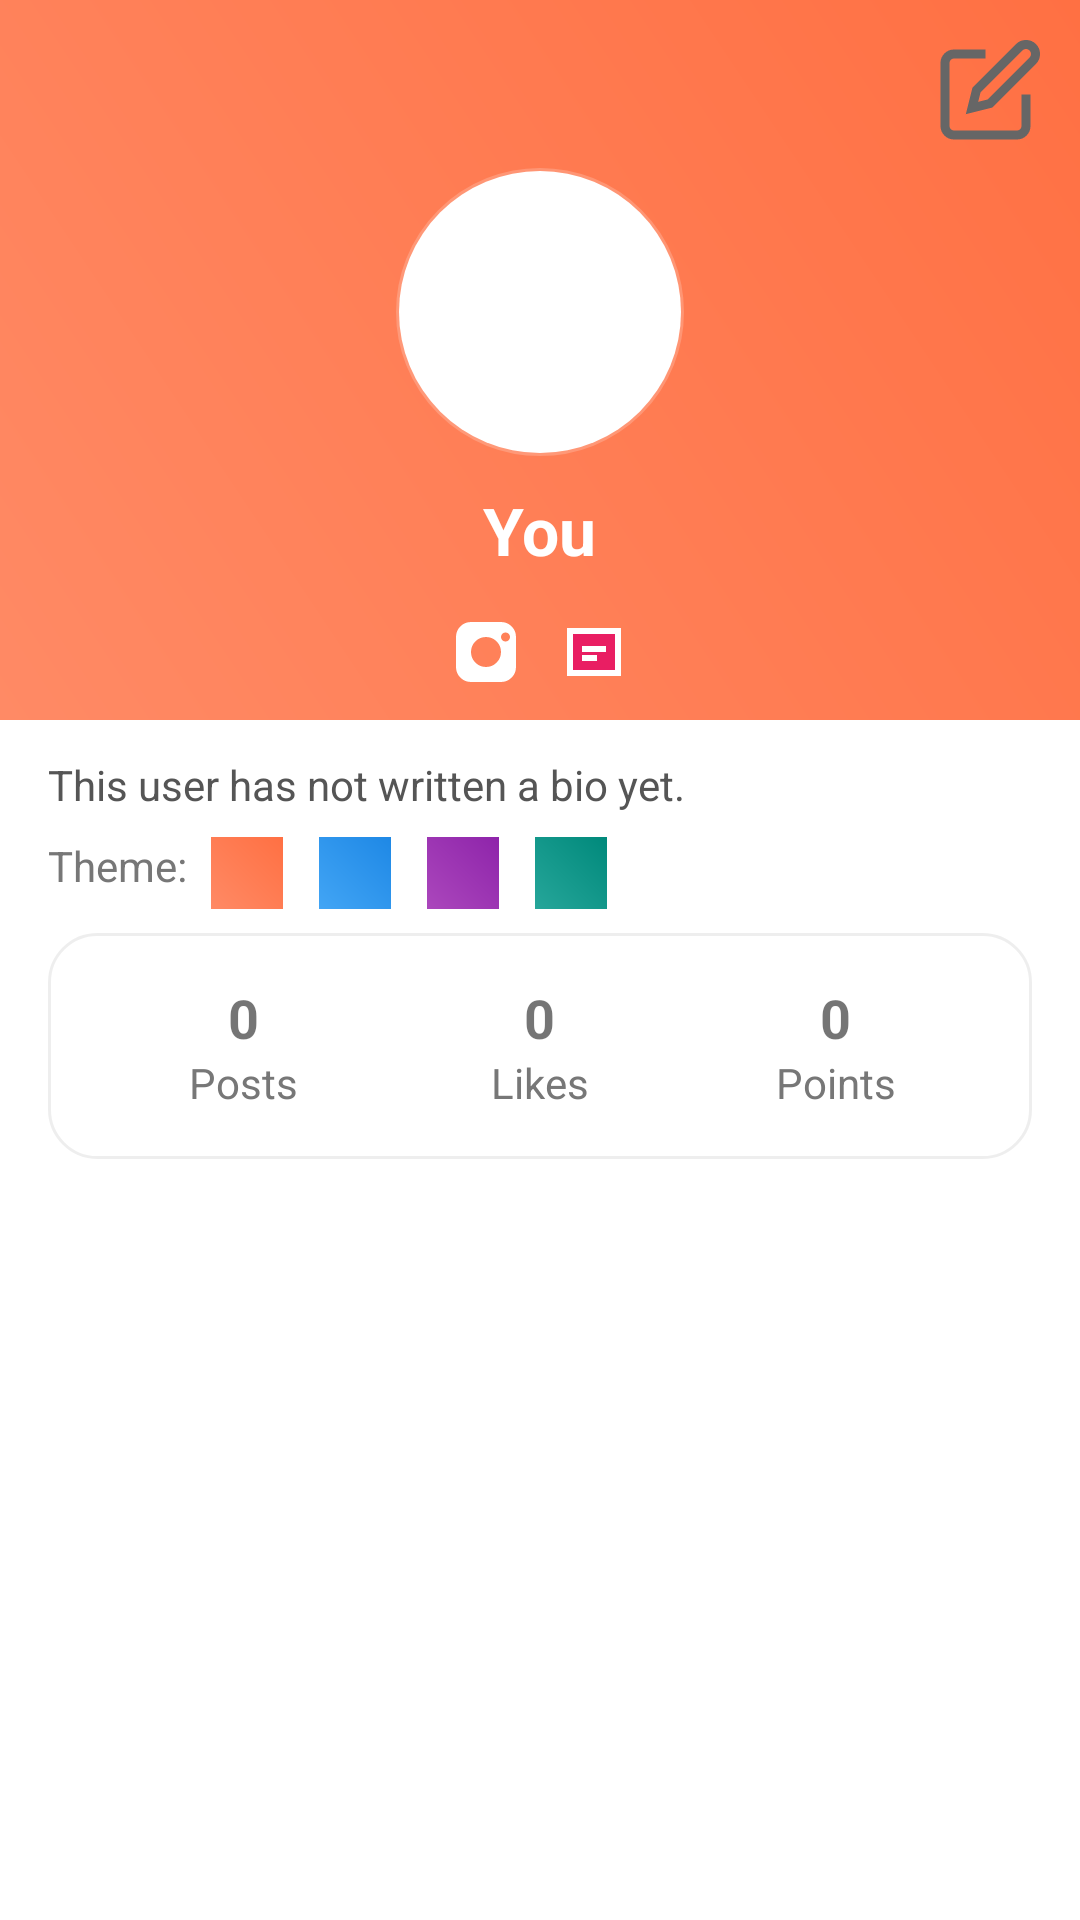

Where icons sit on this 1080x1920 app screen, as (x1, y1, x2, y2):
edit: (940, 40, 1040, 140)
